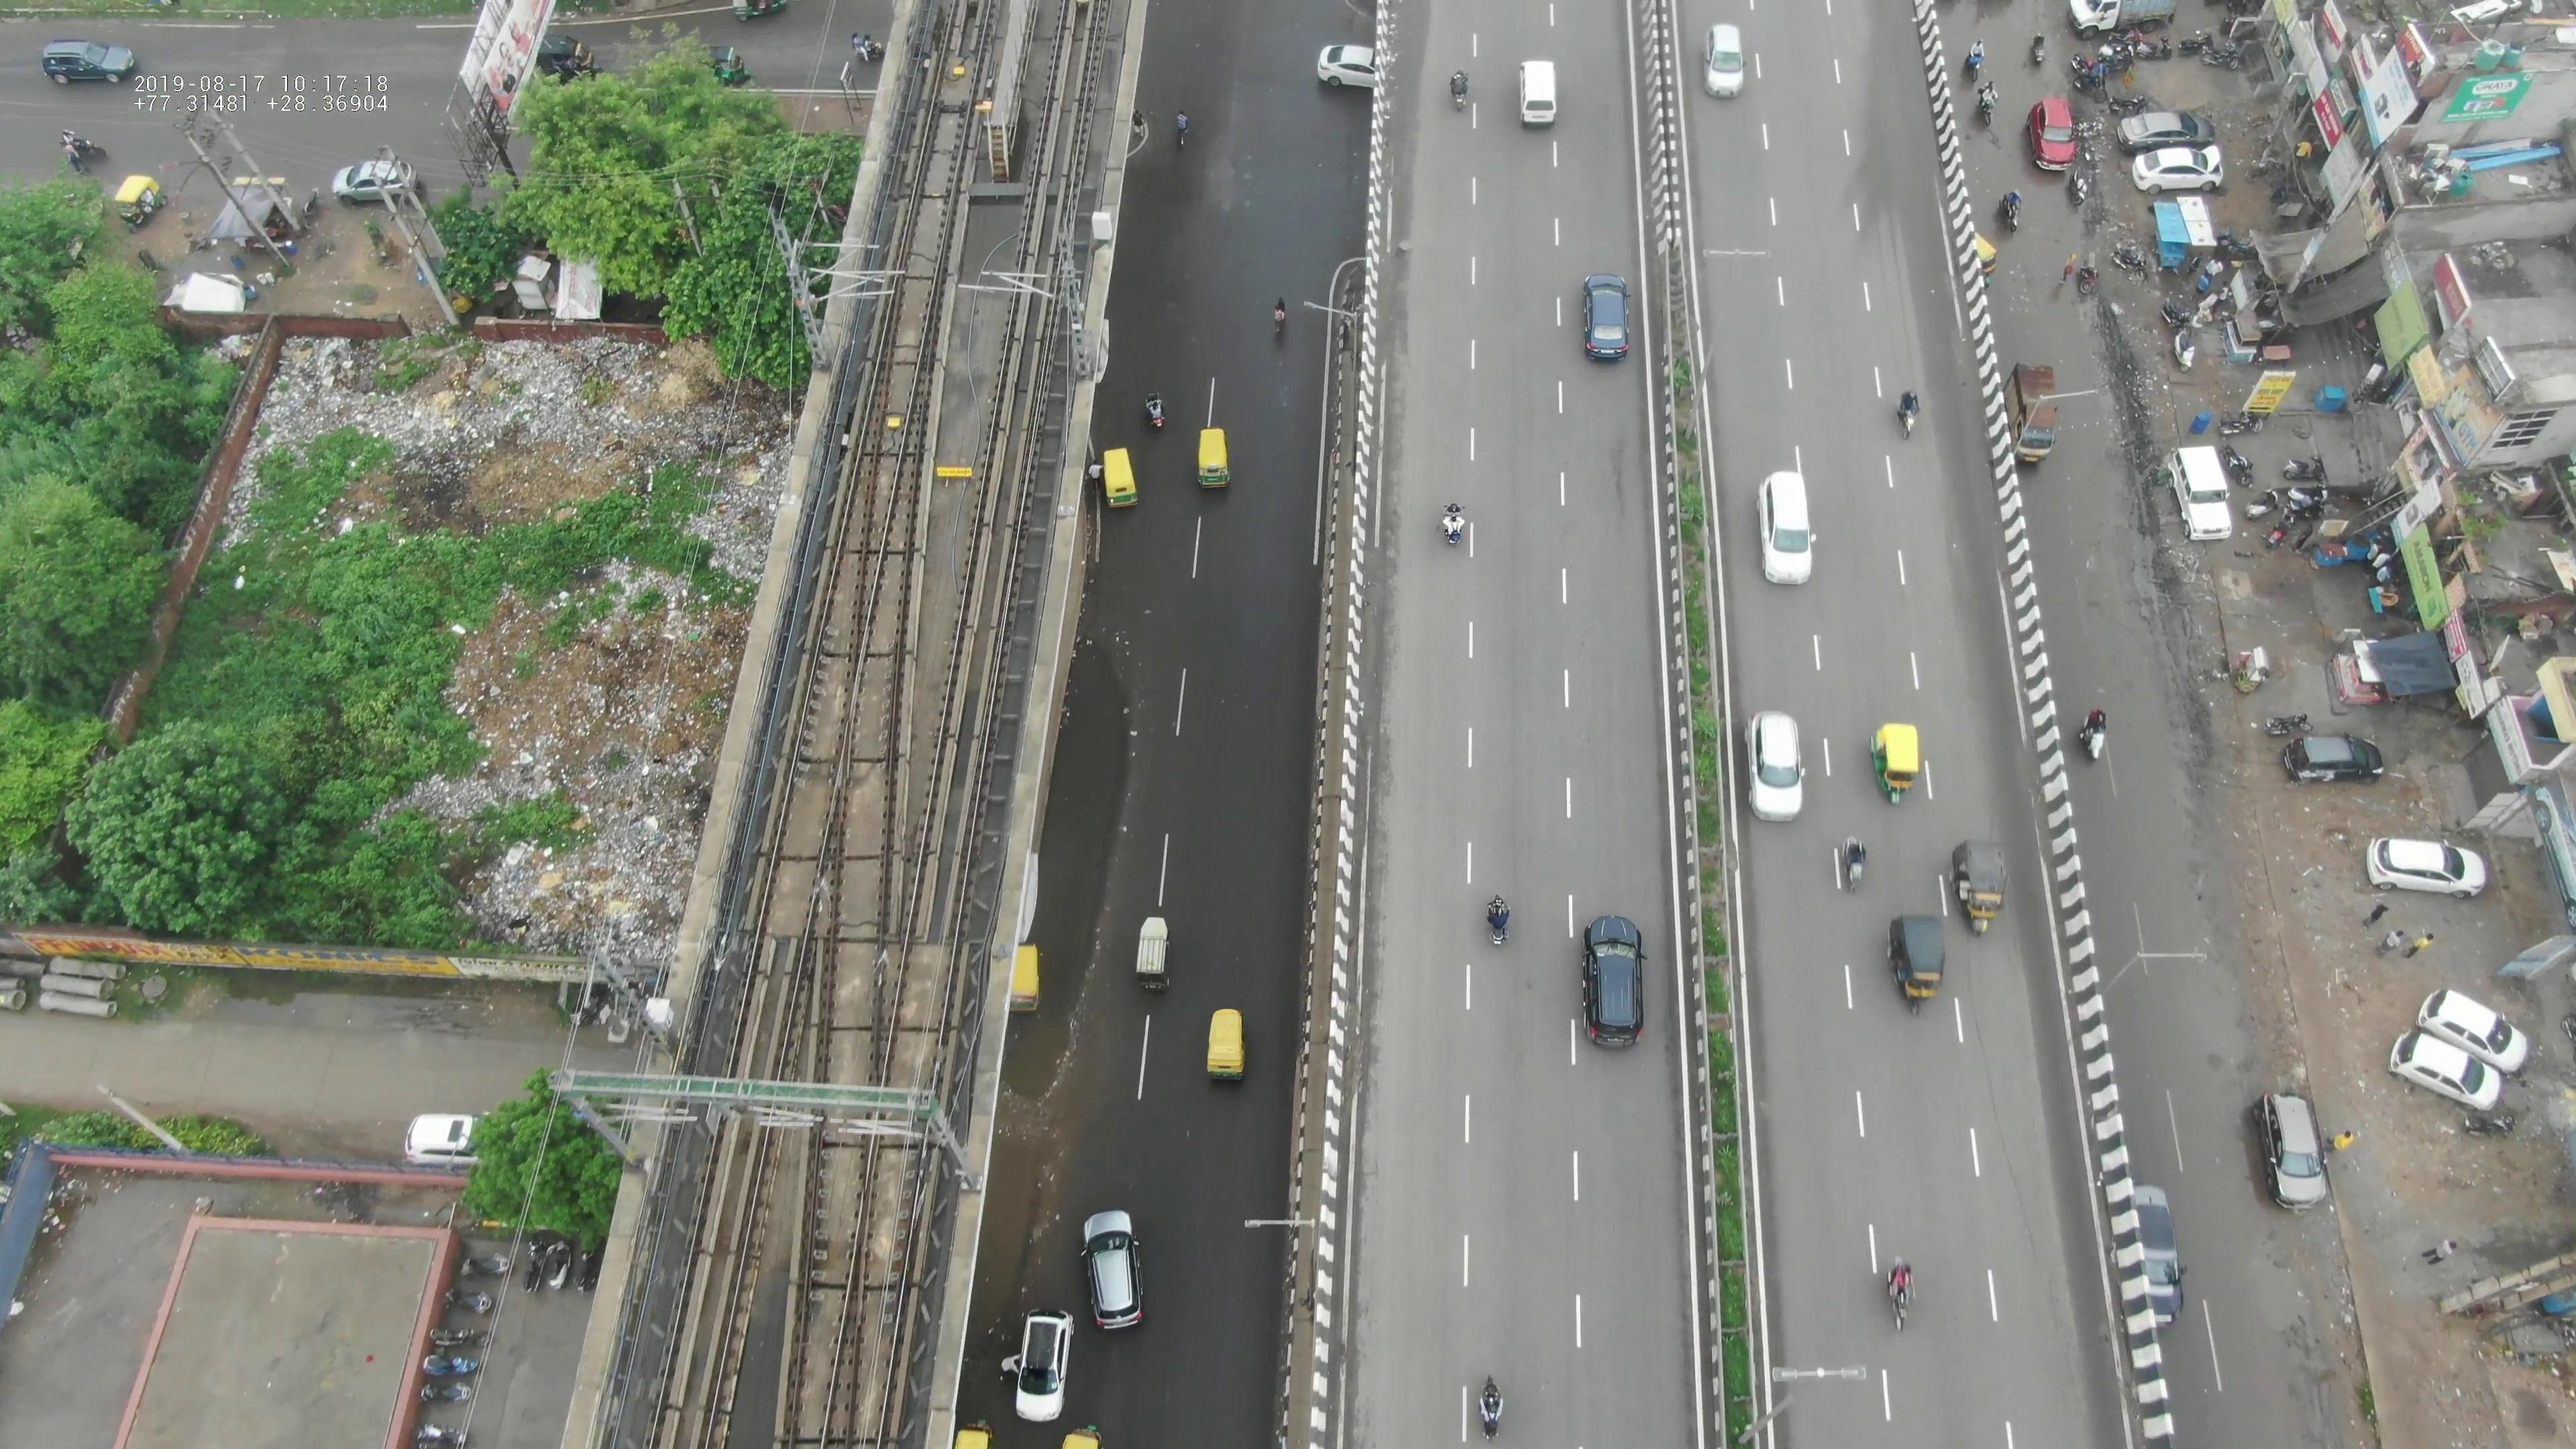Muddy_road: (2082, 315, 2192, 593), (2151, 609, 2242, 805)
Waterlogging: (980, 614, 1143, 1113), (968, 1127, 1065, 1316)
